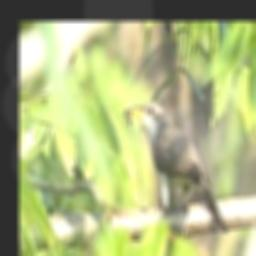Cuckoo: (126, 102, 229, 233)
